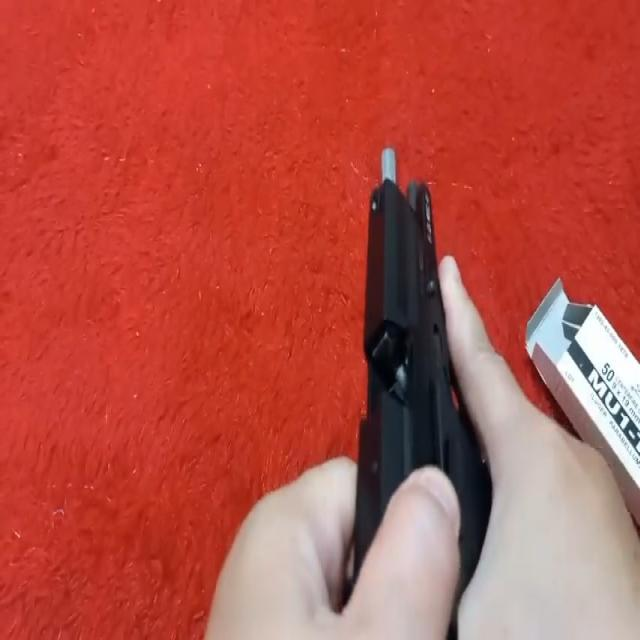handgun: (357, 131, 481, 583)
